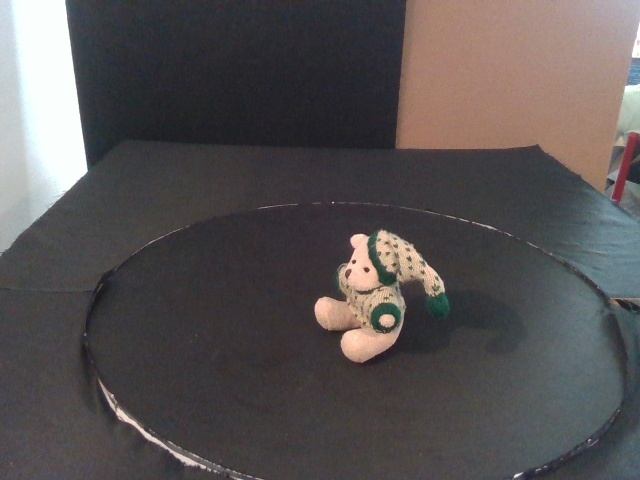teddy_bear: (314, 228, 451, 364)
